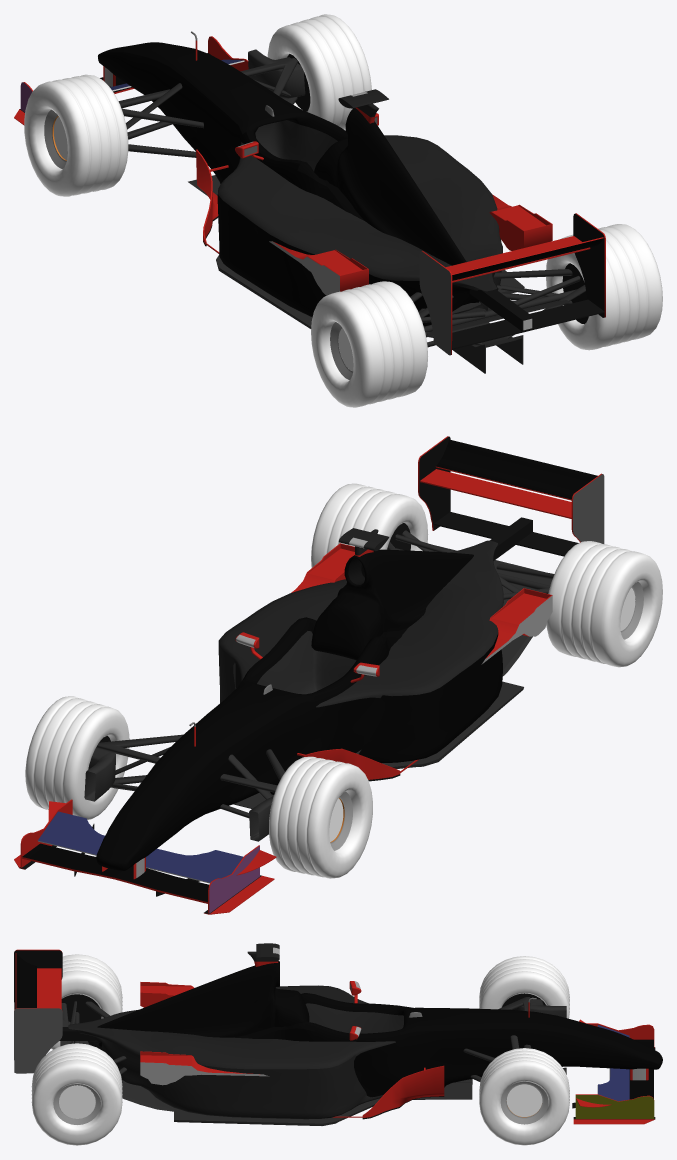
File: Ferrari 2001.fbx
3 views of the same model, one above another, from view 1: azimuth 30°, elevation 25°; view 2: azimuth 150°, elevation 25°; view 3: azimuth 270°, elevation 25° (orthographic). The views are drawn at different scales.
Parts seen in each view (by area): view 1: default; view 2: default; view 3: default.
Boxes of the visible parts, x1,y1,x2,y2 form: default: (14, 14, 662, 407); default: (14, 436, 662, 914); default: (14, 943, 662, 1145).
Bounding box in the file's own units: 2.58 × 1.5 × 6.18.
